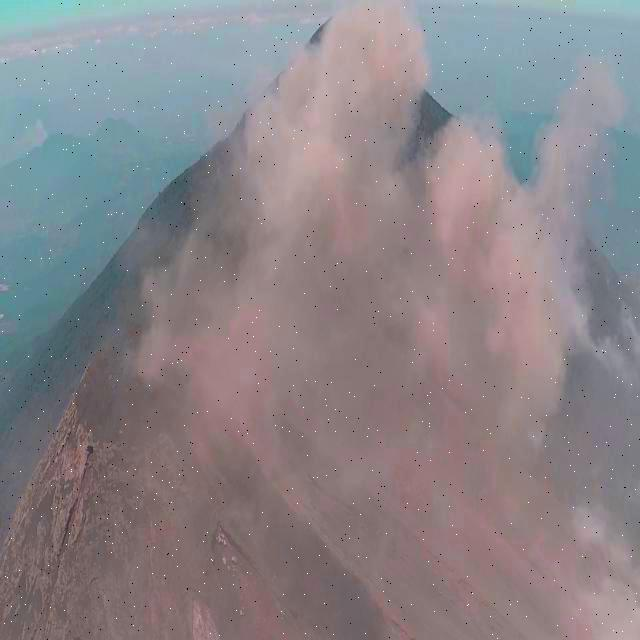Plume: (344, 48, 628, 468), (137, 0, 439, 391)
Summit: (0, 291, 304, 640)
